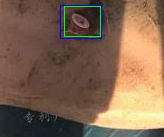text: (64, 6, 100, 36)
